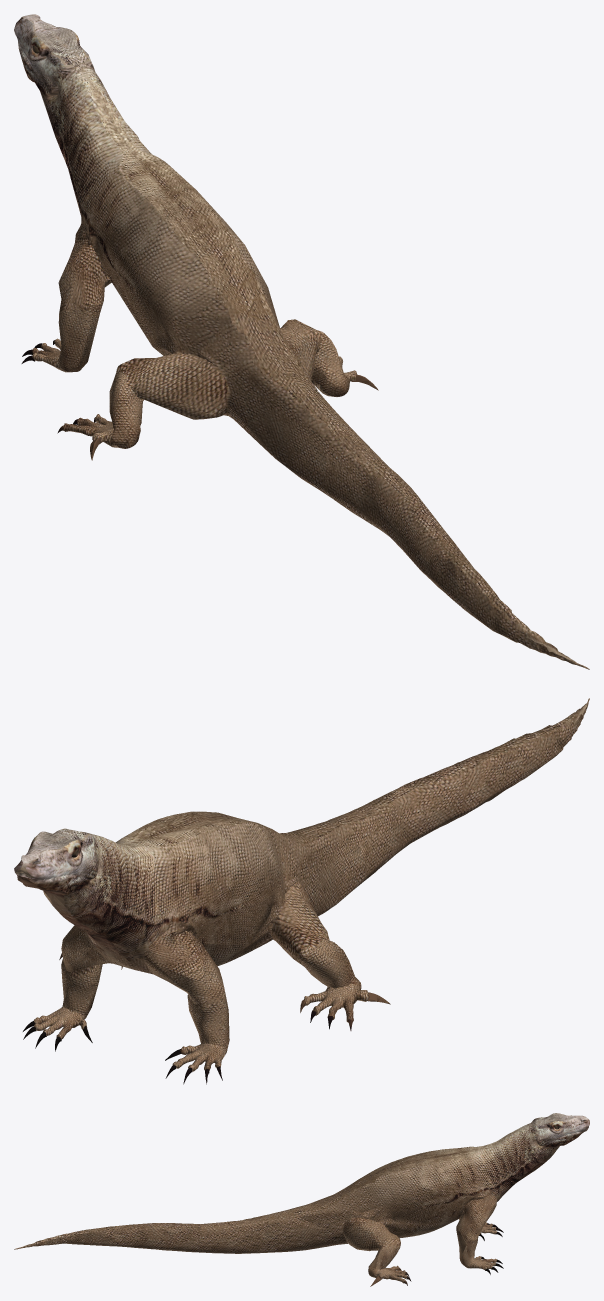
The picture shows the model from 3 angles, top to bottom: view 1: azimuth 30°, elevation 25°; view 2: azimuth 150°, elevation 25°; view 3: azimuth 270°, elevation 25°; orthographic projection. The views are drawn at different scales.
Parts seen in each view (by area): view 1: 3DSMeshMatrix; view 2: 3DSMeshMatrix; view 3: 3DSMeshMatrix.
Boxes of the visible parts, box(x1,y1,x2,y2) form: 3DSMeshMatrix: box(14, 14, 589, 669); 3DSMeshMatrix: box(14, 698, 589, 1071); 3DSMeshMatrix: box(14, 1113, 589, 1283).
Size of the model in its own units: 3020 by 2625 by 10182.
